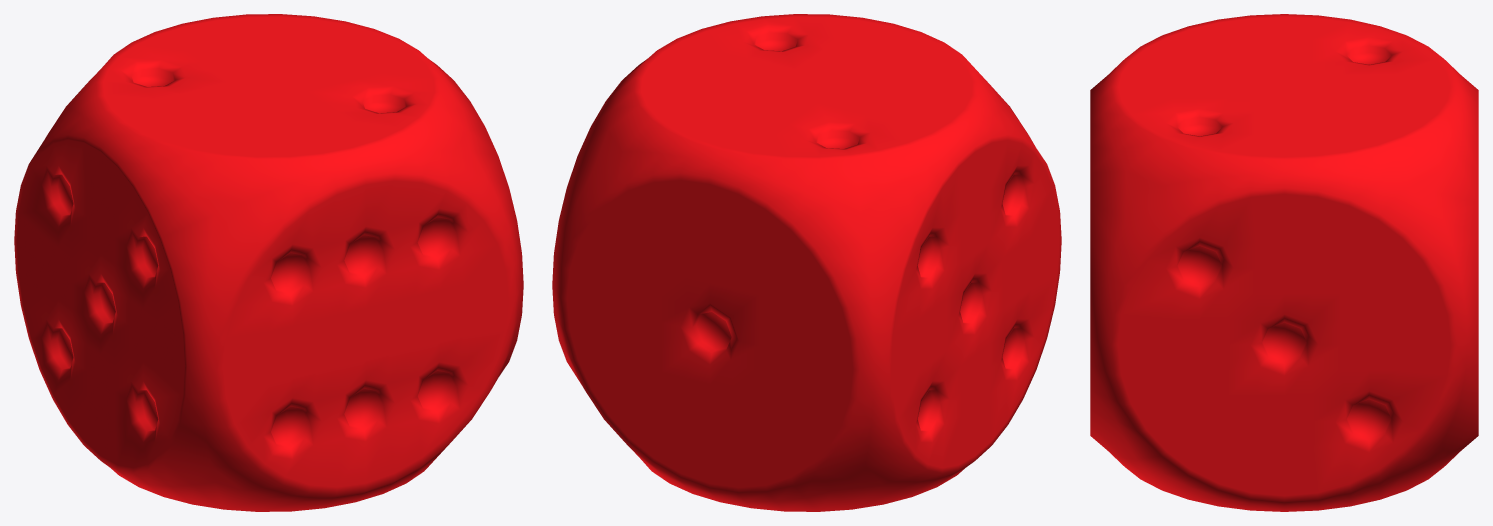
The model's file is diceCollada.dae.
3 views of the same model, side by side, from view 1: azimuth 30°, elevation 25°; view 2: azimuth 150°, elevation 25°; view 3: azimuth 270°, elevation 25° (orthographic).
Visible parts, largest first — view 1: Dice; view 2: Dice; view 3: Dice.
Part boxes in pixels (x1,y1,x2,y2): Dice: (14,14,523,511); Dice: (552,14,1061,511); Dice: (1090,14,1478,511).
Bounding box in the file's own units: 0.01 × 0.01 × 0.01.
